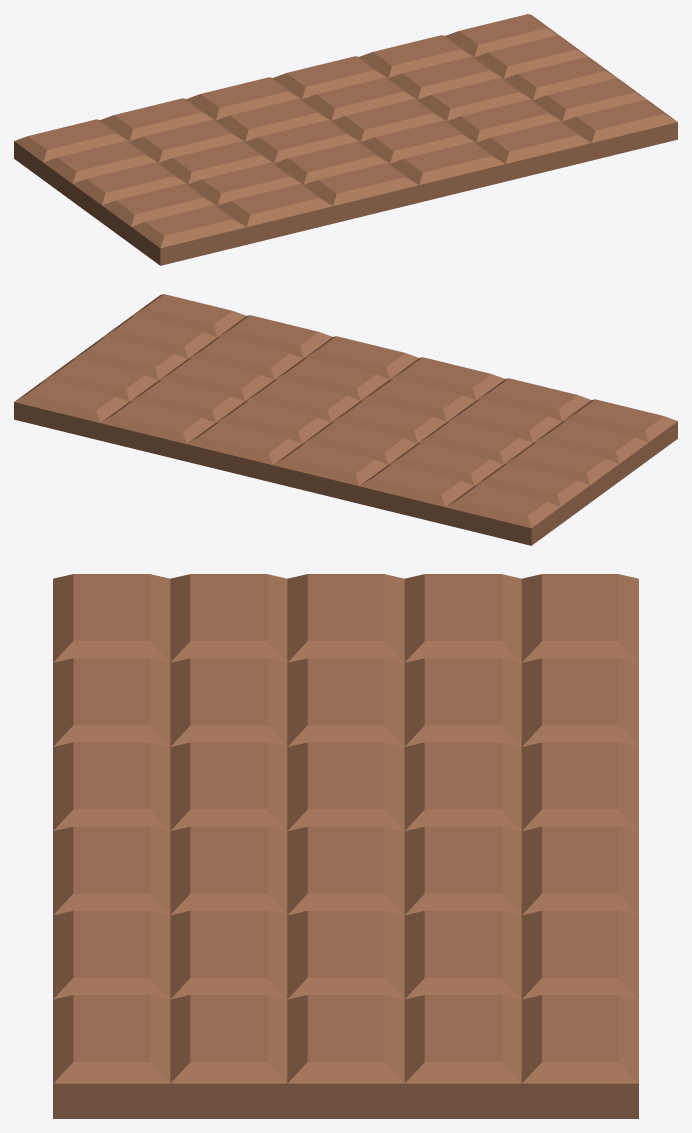
The model's file is CandylandChocolateBar.fbx.
3 views of the same model, one above another, from view 1: azimuth 30°, elevation 25°; view 2: azimuth 150°, elevation 25°; view 3: azimuth 270°, elevation 25° (orthographic). The views are drawn at different scales.
Parts seen in each view (by area): view 1: CandylandChocolateBar; view 2: CandylandChocolateBar; view 3: CandylandChocolateBar.
Boxes of the visible parts, x1,y1,x2,y2 form: CandylandChocolateBar: [14, 14, 677, 265]; CandylandChocolateBar: [14, 294, 677, 545]; CandylandChocolateBar: [53, 574, 638, 1118].
Bounding box in the file's own units: 1.34 × 0.0598 × 0.6568.
